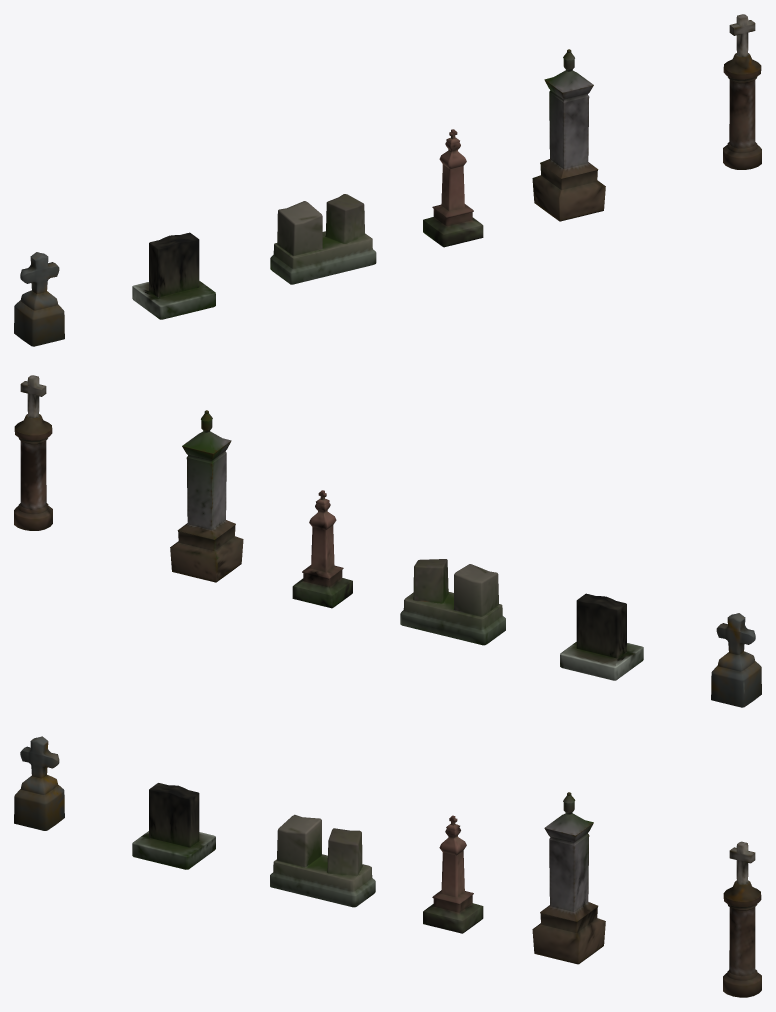
Rendered from SM_Tombstone.fbx.
3 views of the same model, one above another, from view 1: azimuth 30°, elevation 25°; view 2: azimuth 150°, elevation 25°; view 3: azimuth 330°, elevation 25° (orthographic).
Visible parts, largest first — view 1: SM_BigTombstone_2, SM_SmallTombstone_2, SM_SmallTombstone_1, SM_BigTombstone_3, SM_BigTombstone_1, SM_SmallTombstone3; view 2: SM_BigTombstone_2, SM_SmallTombstone_2, SM_SmallTombstone_1, SM_BigTombstone_3, SM_BigTombstone_1, SM_SmallTombstone3; view 3: SM_BigTombstone_2, SM_SmallTombstone_2, SM_SmallTombstone_1, SM_BigTombstone_3, SM_BigTombstone_1, SM_SmallTombstone3.
Boxes of the visible parts, box(x1,y1,x2,y2) form: SM_BigTombstone_2: box(532, 49, 605, 221); SM_SmallTombstone_2: box(270, 194, 376, 284); SM_SmallTombstone_1: box(132, 232, 215, 319); SM_BigTombstone_3: box(723, 14, 761, 169); SM_BigTombstone_1: box(423, 129, 483, 247); SM_SmallTombstone3: box(14, 252, 64, 346); SM_BigTombstone_2: box(170, 410, 243, 582); SM_SmallTombstone_2: box(400, 559, 505, 645); SM_SmallTombstone_1: box(560, 593, 643, 680); SM_BigTombstone_3: box(14, 375, 52, 530); SM_BigTombstone_1: box(292, 490, 352, 608); SM_SmallTombstone3: box(711, 613, 761, 707); SM_BigTombstone_2: box(532, 792, 605, 964); SM_SmallTombstone_2: box(270, 814, 375, 907); SM_SmallTombstone_1: box(132, 783, 215, 869); SM_BigTombstone_3: box(723, 841, 761, 997); SM_BigTombstone_1: box(423, 815, 483, 933); SM_SmallTombstone3: box(14, 736, 64, 830).
Bounding box in the file's own units: 1117 × 228 × 75.5.
Materials: 1 (1 with a texture image).
